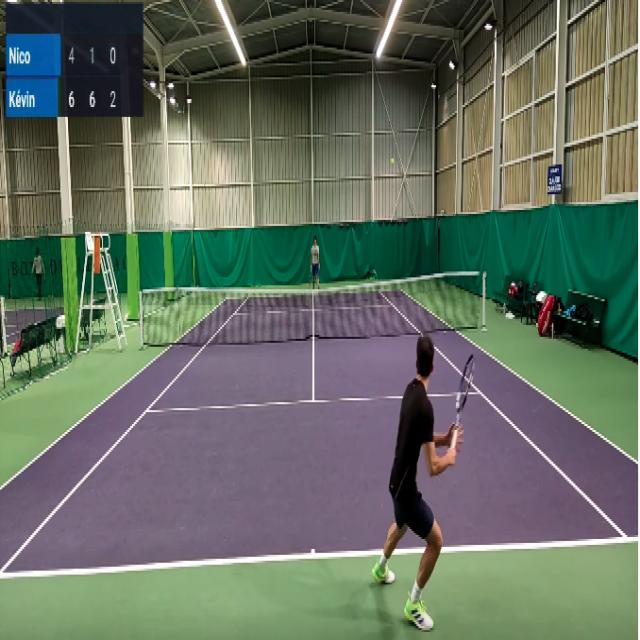ball: (391, 157, 394, 165)
